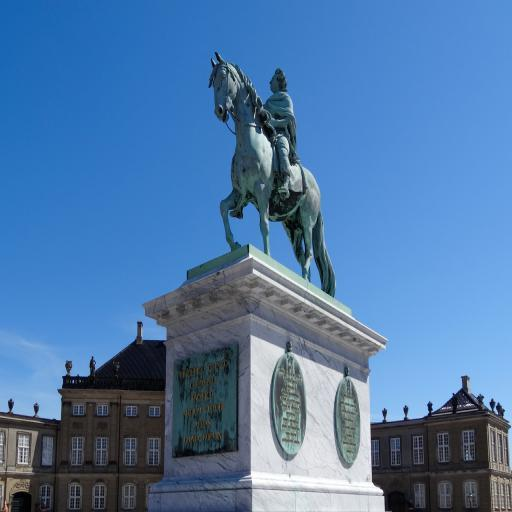horse: (209, 50, 338, 298)
